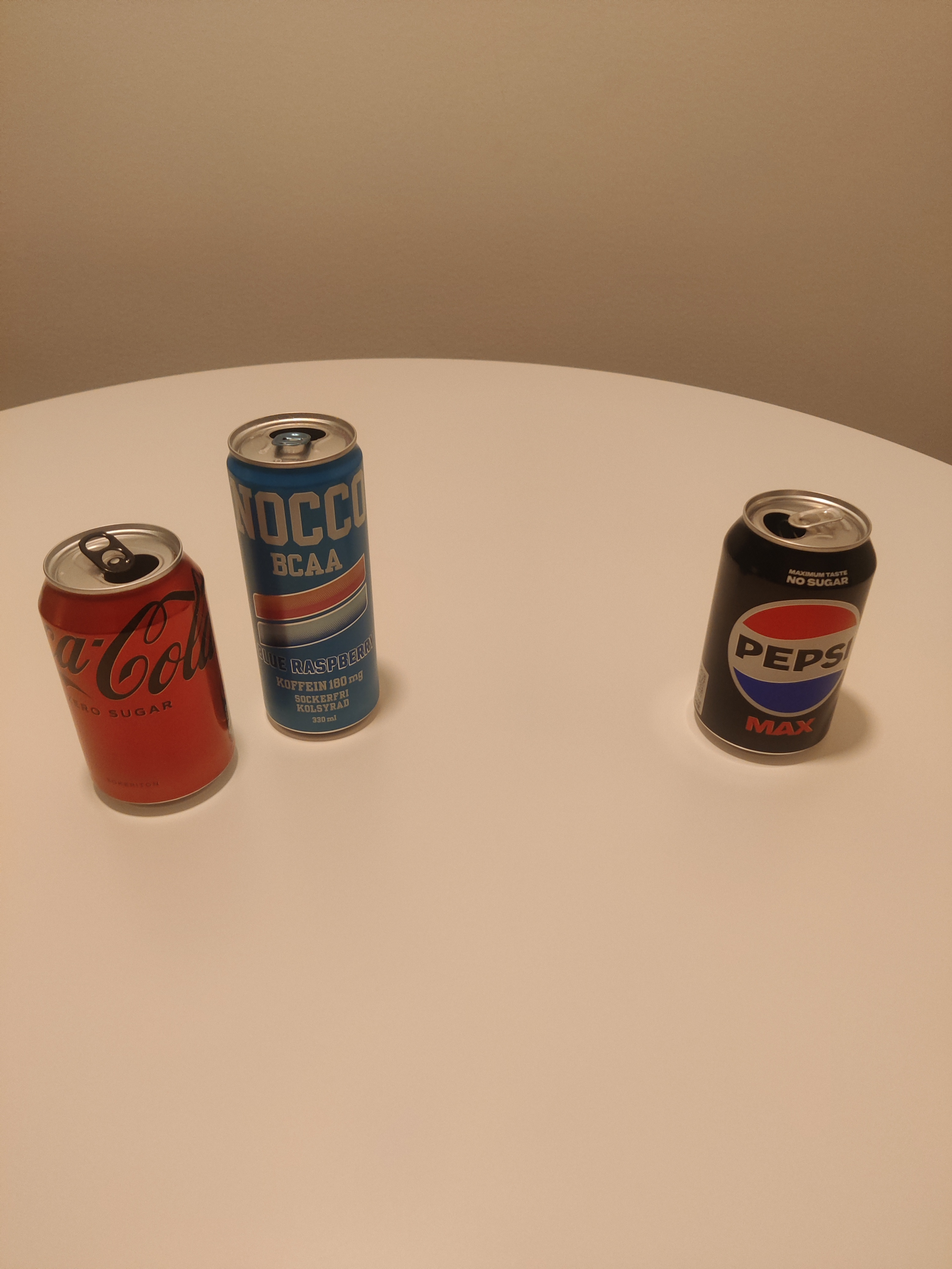Pantburk: (37, 518, 238, 807), (690, 486, 879, 758), (224, 411, 381, 734)
